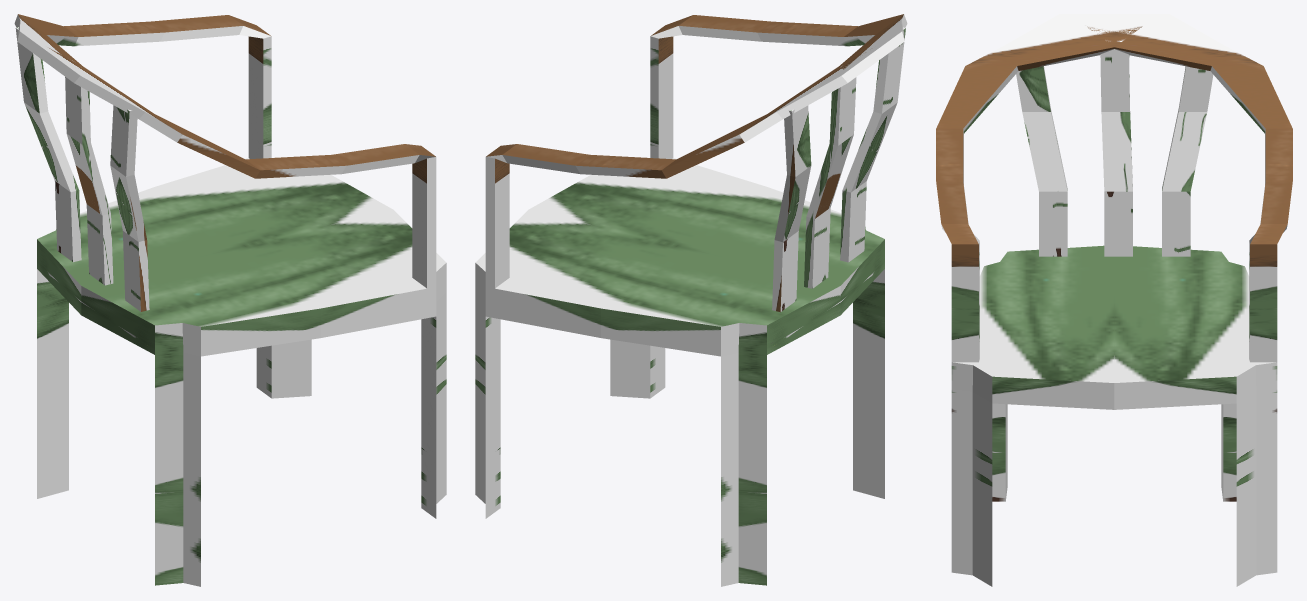
The model's file is silla rimax.fbx.
3 renders of one model, left to right at view 1: azimuth 30°, elevation 25°; view 2: azimuth 150°, elevation 25°; view 3: azimuth 270°, elevation 25°, orthographic. The views are drawn at different scales.
Visible parts, largest first — view 1: silla, espaldar 3, espaldar 1, espaldar 2; view 2: silla, espaldar 1, espaldar 3, espaldar 2; view 3: silla, espaldar 2, espaldar 1, espaldar 3.
Part boxes in pixels (x1=…): silla: x1=14, y1=14, x2=446, y2=586; espaldar 3: x1=15, y1=27, x2=81, y2=262; espaldar 1: x1=110, y1=105, x2=149, y2=311; espaldar 2: x1=65, y1=77, x2=113, y2=285; silla: x1=475, y1=14, x2=907, y2=586; espaldar 1: x1=840, y1=27, x2=905, y2=262; espaldar 3: x1=772, y1=105, x2=811, y2=312; espaldar 2: x1=804, y1=77, x2=856, y2=288; silla: x1=936, y1=14, x2=1292, y2=586; espaldar 2: x1=1100, y1=49, x2=1132, y2=256; espaldar 1: x1=1016, y1=66, x2=1067, y2=256; espaldar 3: x1=1162, y1=66, x2=1213, y2=256.
Size of the model in its own units: 123 by 169 by 121.
